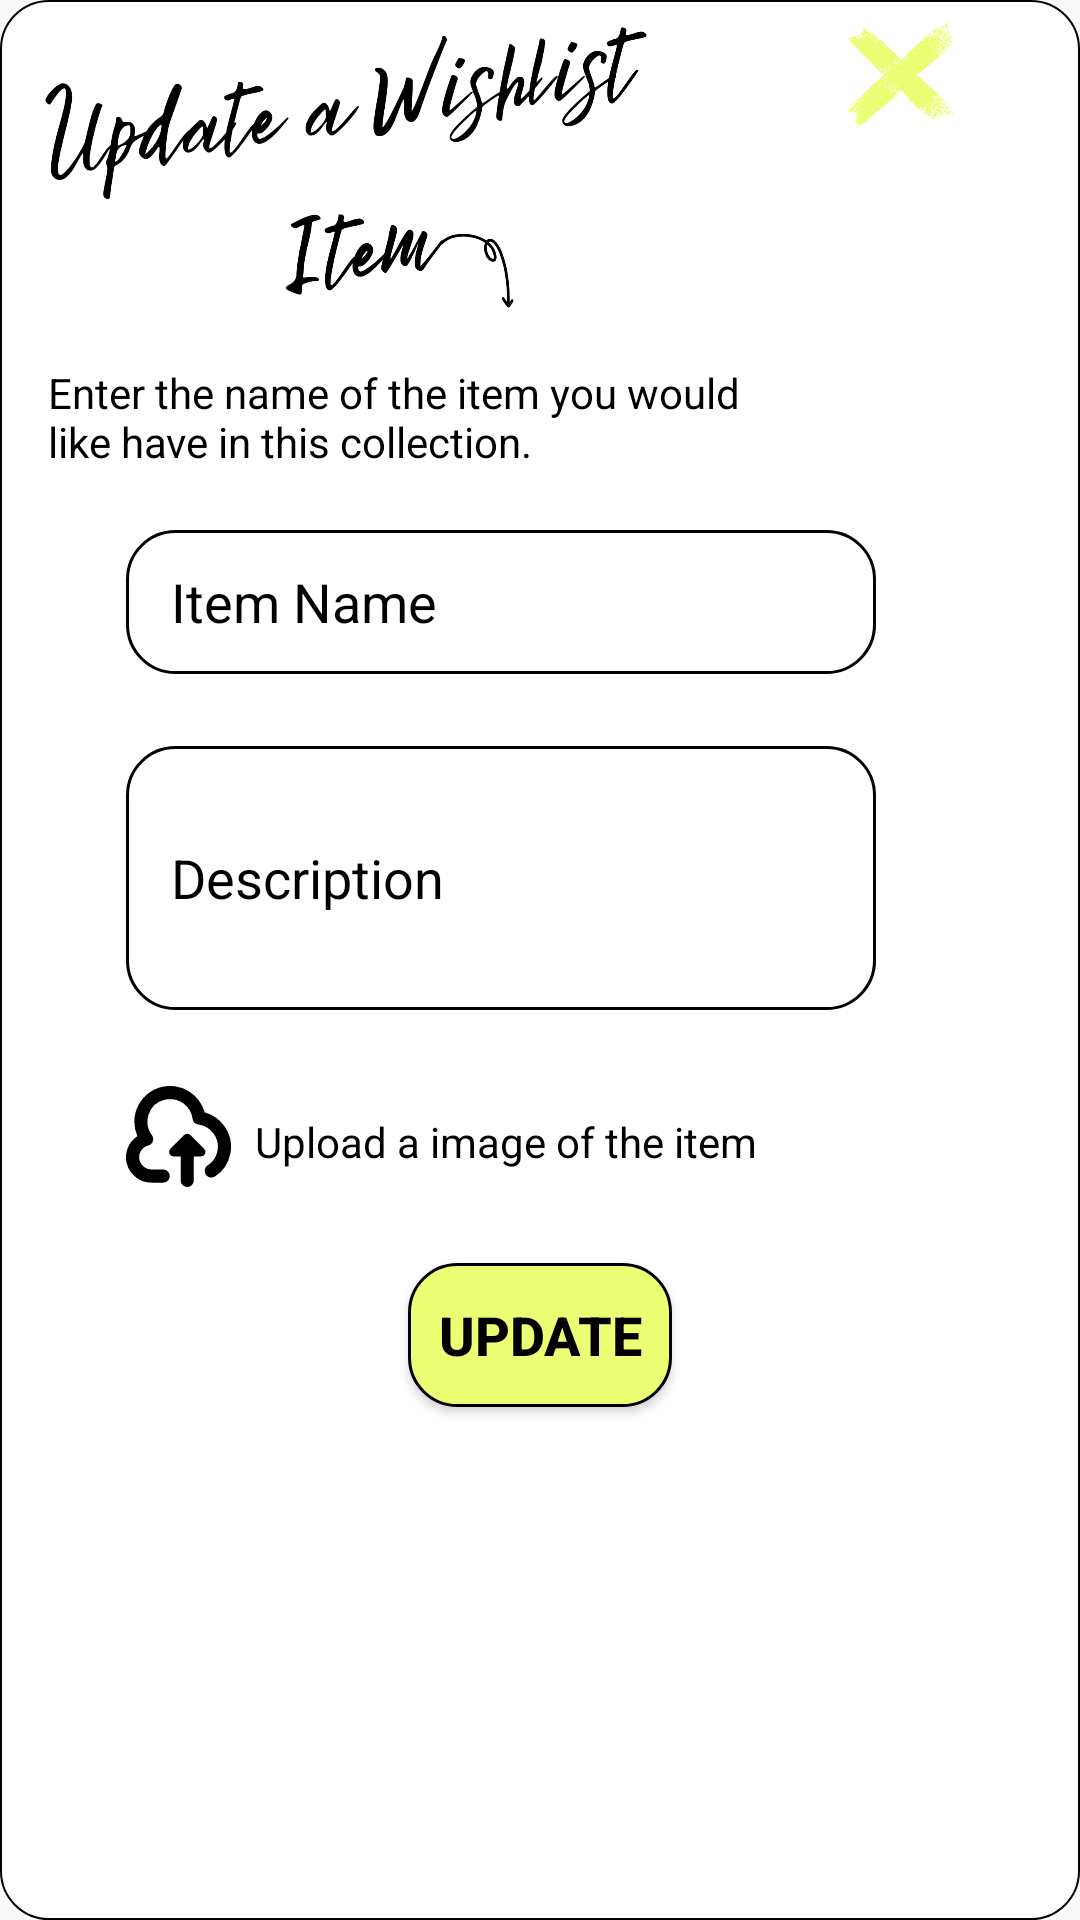

Icons on this 1080*1920 Android screen, each with the point to tap as (x,y):
highlighter cross: (900,75)
